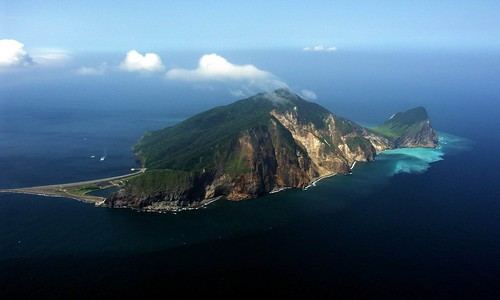turtleIslandTop: (32, 91, 456, 201)
